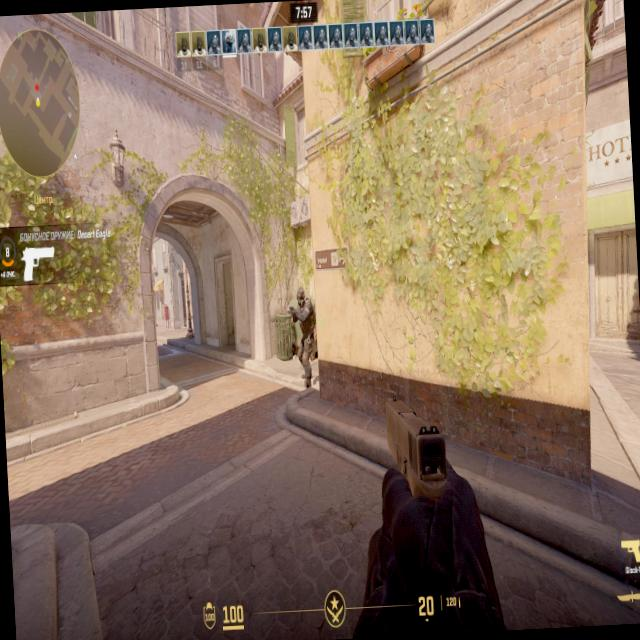CT: (296, 295, 315, 385)
CT_heat: (300, 294, 306, 308)
